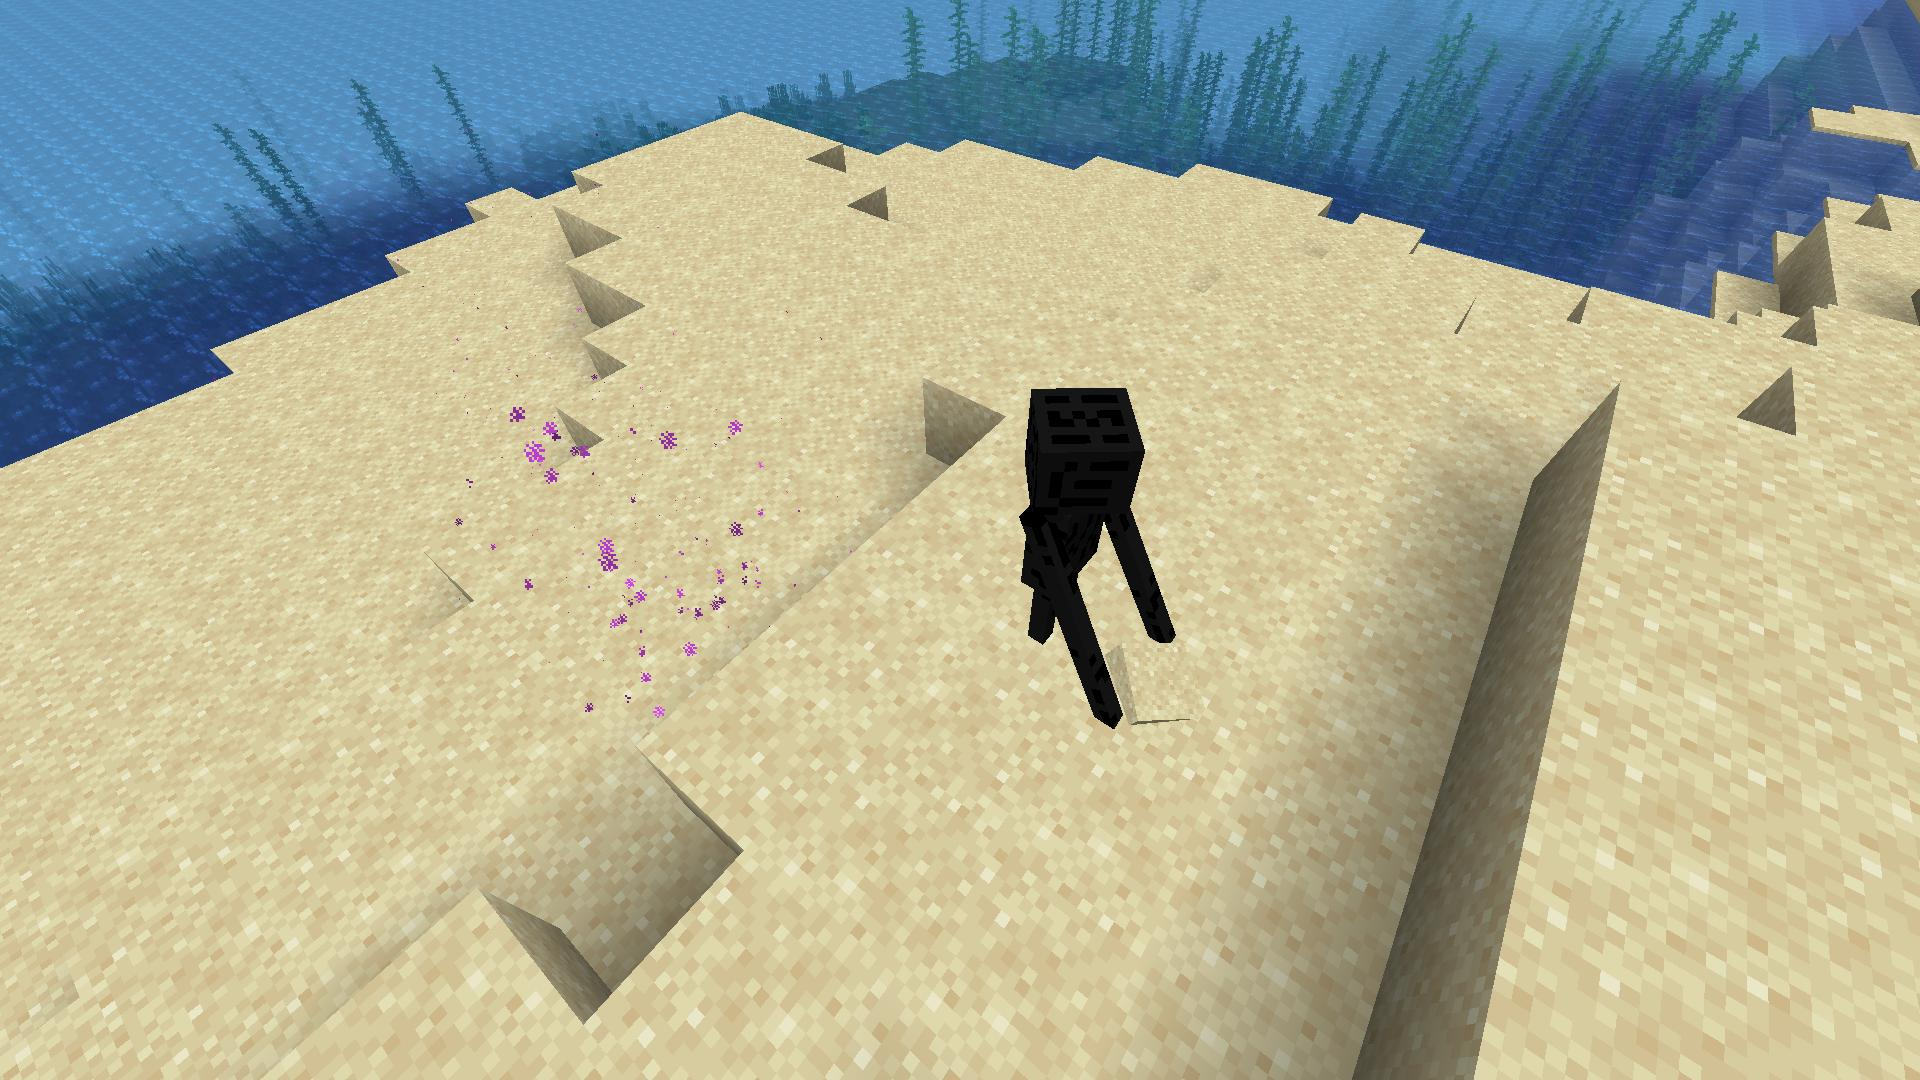enderman: (1017, 380, 1189, 744)
